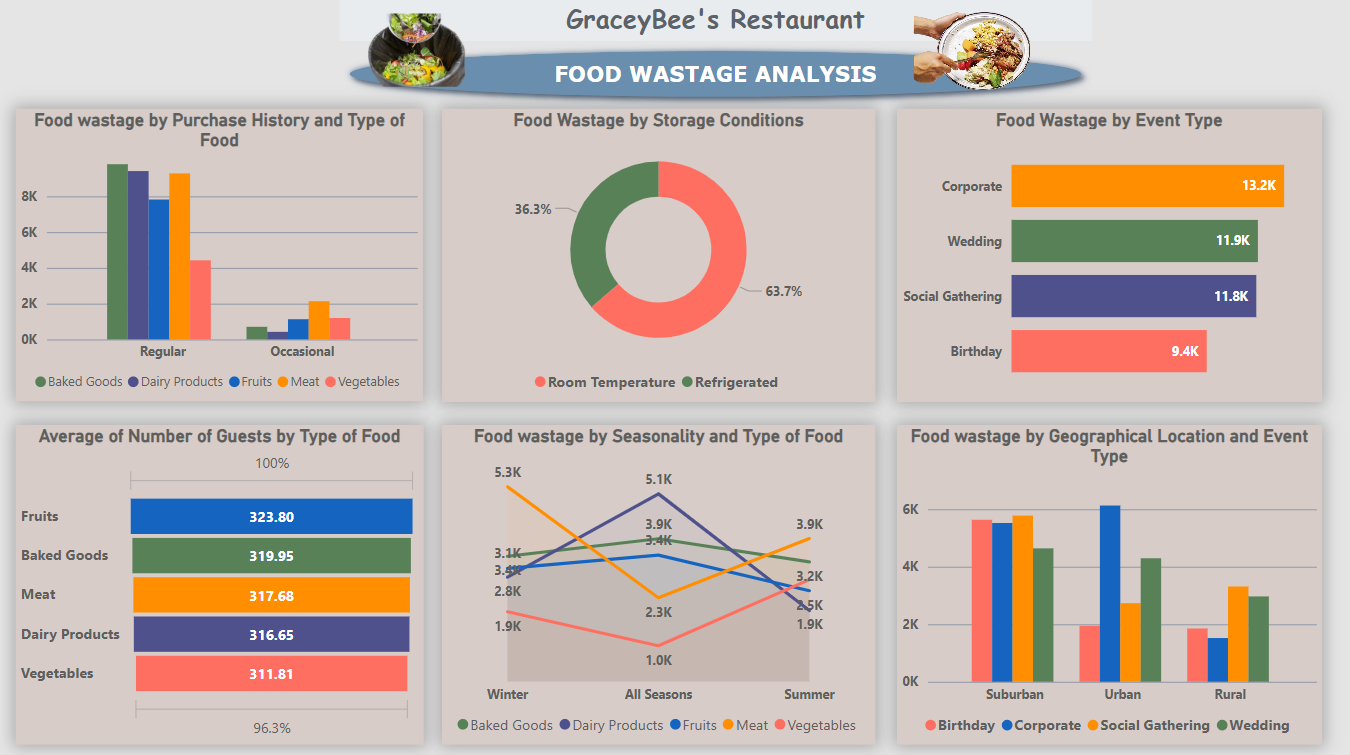

The page's visual inventory and layout, read from the dashboard file:
{"tool":"powerbi","page":{"name":"Page 2","canvas":[1280,720],"ordinal":1},"visuals":[{"type":"funnel","fields":{"Y":["Avg(food_wastage_data.Number of Guests)"],"Category":["food_wastage_data.Type of Food"]},"box":[21.8,399.7,383.7,301],"z":0},{"type":"donutChart","title":"Food Wastage by Storage Conditions","fields":{"Category":["food_wastage_data.Storage Conditions"],"Y":["Sum(food_wastage_data.Wastage Food Amount)"]},"box":[423.9,102.2,407.8,275.7],"z":1000},{"type":"clusteredColumnChart","title":"Food wastage by Purchase History and Type of Food","fields":{"Series":["food_wastage_data.Type of Food"],"Category":["food_wastage_data.Purchase History"],"Y":["Sum(food_wastage_data.Wastage Food Amount)"]},"box":[22.4,102.4,383.5,275.3],"z":2000},{"type":"clusteredBarChart","title":"Food Wastage by Event Type","fields":{"Category":["food_wastage_data.Event Type"],"Y":["Sum(food_wastage_data.Wastage Food Amount)"]},"box":[852.3,102.2,399.7,275.7],"z":3000},{"type":"lineChart","title":"Food wastage by Seasonality and Type of Food","fields":{"Category":["food_wastage_data.Seasonality"],"Y":["Sum(food_wastage_data.Wastage Food Amount)"],"Series":["food_wastage_data.Type of Food"]},"box":[423.9,399.7,407.8,301],"z":4000},{"type":"clusteredColumnChart","title":"Food wastage by Geographical Location and Event Type","fields":{"Series":["food_wastage_data.Event Type"],"Category":["food_wastage_data.Geographical Location"],"Y":["Sum(food_wastage_data.Wastage Food Amount)"]},"box":[851.8,400,400,301.2],"z":5000},{"type":"shape","title":"GraceyBee''s Restaurant","box":[326.7,0,707.8,100.9],"z":6000},{"type":"image","box":[844.4,0,155.6,91.1],"z":7000},{"type":"image","box":[348.9,4.4,113.3,91.1],"z":8000}]}

Visuals, with their boxes in screenshot pixels (x1, y1, x2, y2), scaled from the page's 1280x720 canvas onto the 1350x755 screenshot:
funnel - Avg(food_wastage_data.Number of Guests) x food_wastage_data.Type of Food: Rect(23, 419, 428, 735)
"Food Wastage by Storage Conditions" donutChart: Rect(447, 107, 877, 396)
"Food wastage by Purchase History and Type of Food" clusteredColumnChart: Rect(24, 107, 428, 396)
"Food Wastage by Event Type" clusteredBarChart: Rect(899, 107, 1320, 396)
"Food wastage by Seasonality and Type of Food" lineChart: Rect(447, 419, 877, 735)
"Food wastage by Geographical Location and Event Type" clusteredColumnChart: Rect(898, 419, 1320, 735)
"GraceyBee''s Restaurant" shape: Rect(345, 0, 1091, 106)
image: Rect(891, 0, 1055, 96)
image: Rect(368, 5, 487, 100)
